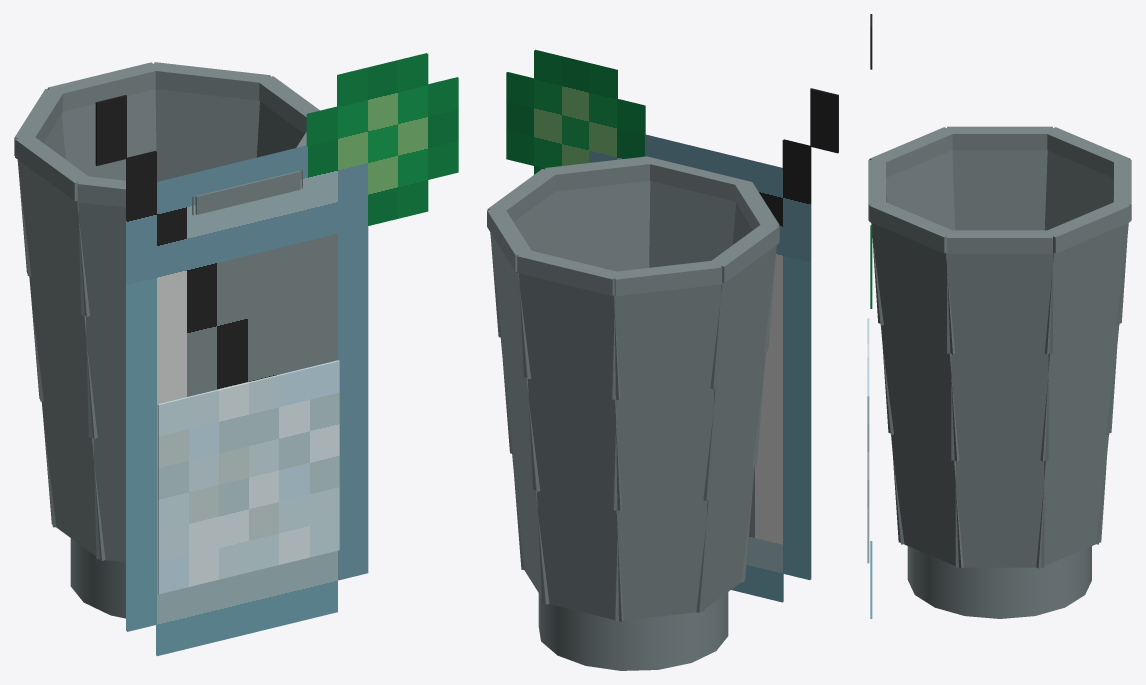
Rendered from CMU3DDrinkVodkaTonicGlass.glb.
3 views of the same model, side by side, from view 1: azimuth 30°, elevation 25°; view 2: azimuth 150°, elevation 25°; view 3: azimuth 270°, elevation 25° (orthographic). The views are drawn at different scales.
Visible parts, largest first — view 1: base original source artwork, fill original source artwork, hollow wall tier 3 facet 2, hollow wall tier 2 facet 5, hollow wall tier 3 facet 5, hollow wall tier 1 facet 5, hollow wall tier 3 facet 6, hollow wall tier 2 facet 6, hollow wall tier 3 facet 3, hollow wall tier 1 facet 6, heavy glass foot, open rim facet 2 (+8 smaller); view 2: base original source artwork, hollow wall tier 2 facet 4, hollow wall tier 3 facet 4, hollow wall tier 1 facet 4, hollow wall tier 2 facet 3, hollow wall tier 3 facet 3, heavy glass foot, hollow wall tier 1 facet 3, hollow wall tier 3 facet 8, hollow wall tier 3 facet 7, hollow wall tier 3 facet 5, hollow wall tier 2 facet 5 (+15 smaller); view 3: hollow wall tier 2 facet 1, hollow wall tier 3 facet 1, hollow wall tier 1 facet 1, heavy glass foot, hollow wall tier 3 facet 5, hollow wall tier 2 facet 8, hollow wall tier 2 facet 2, hollow wall tier 3 facet 2, hollow wall tier 3 facet 8, hollow wall tier 1 facet 2, hollow wall tier 1 facet 8, hollow wall tier 3 facet 4 (+11 smaller).
Part boxes in pixels (x1,y1,x2,y2): base original source artwork: (95, 53, 458, 656); fill original source artwork: (157, 360, 339, 594); hollow wall tier 3 facet 2: (155, 89, 259, 181); hollow wall tier 2 facet 5: (29, 276, 97, 438); hollow wall tier 3 facet 5: (17, 160, 89, 316); hollow wall tier 1 facet 5: (42, 401, 105, 560); hollow wall tier 3 facet 6: (78, 202, 125, 318); hollow wall tier 2 facet 6: (86, 314, 125, 439); hollow wall tier 3 facet 3: (62, 89, 156, 180); hollow wall tier 1 facet 6: (93, 436, 125, 562); heavy glass foot: (70, 538, 125, 618); open rim facet 2: (153, 62, 270, 100); base original source artwork: (506, 49, 838, 602); hollow wall tier 2 facet 4: (613, 387, 714, 510); hollow wall tier 3 facet 4: (611, 284, 720, 399); hollow wall tier 1 facet 4: (614, 500, 707, 621); hollow wall tier 2 facet 3: (527, 377, 622, 510); hollow wall tier 3 facet 3: (519, 273, 620, 399); heavy glass foot: (538, 592, 728, 670); hollow wall tier 1 facet 3: (537, 490, 623, 621); hollow wall tier 3 facet 8: (554, 181, 650, 271); hollow wall tier 3 facet 7: (649, 181, 735, 267); hollow wall tier 3 facet 5: (710, 245, 776, 389); hollow wall tier 2 facet 5: (703, 352, 765, 501); hollow wall tier 2 facet 1: (951, 352, 1048, 460); hollow wall tier 3 facet 1: (947, 254, 1052, 353); hollow wall tier 1 facet 1: (955, 460, 1044, 567); heavy glass foot: (907, 546, 1091, 618); hollow wall tier 3 facet 5: (952, 150, 1047, 230); hollow wall tier 2 facet 8: (881, 324, 959, 461); hollow wall tier 2 facet 2: (1040, 324, 1118, 461); hollow wall tier 3 facet 2: (1044, 223, 1128, 354); hollow wall tier 3 facet 8: (871, 223, 955, 354); hollow wall tier 1 facet 2: (1036, 433, 1108, 568); hollow wall tier 1 facet 8: (891, 434, 963, 568); hollow wall tier 3 facet 4: (1044, 150, 1113, 230).
Size of what is drawn, in the model's own units: 0.375 by 0.5625 by 0.269.
5 materials, 2 textured.
